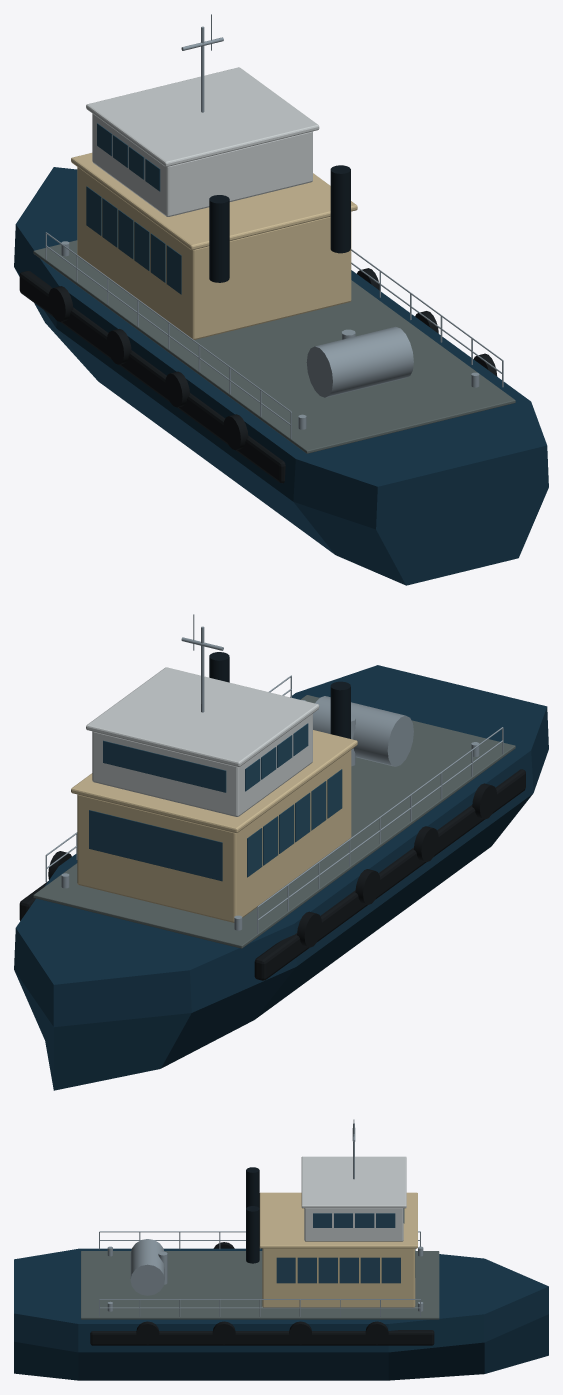
Rendered from ship-tug.glb.
3 views of the same model, one above another, from view 1: azimuth 30°, elevation 25°; view 2: azimuth 150°, elevation 25°; view 3: azimuth 270°, elevation 25° (orthographic). The views are drawn at different scales.
Visible parts, largest first — view 1: ship-tug_body, ship-tug_metal, ship-tug_glass; view 2: ship-tug_body, ship-tug_glass, ship-tug_metal; view 3: ship-tug_body, ship-tug_glass, ship-tug_metal.
Part boxes in pixels (left/top/right/bottom): ship-tug_body: left=14, top=67, right=548, bottom=585; ship-tug_metal: left=45, top=14, right=503, bottom=438; ship-tug_glass: left=86, top=123, right=181, bottom=294; ship-tug_body: left=14, top=652, right=548, bottom=1090; ship-tug_glass: left=89, top=723, right=342, bottom=881; ship-tug_metal: left=45, top=614, right=503, bottom=933; ship-tug_body: left=14, top=1156, right=548, bottom=1380; ship-tug_glass: left=276, top=1208, right=415, bottom=1283; ship-tug_metal: left=99, top=1119, right=423, bottom=1316.
Bounding box in the file's own units: 10.14 × 13.8 × 28.
